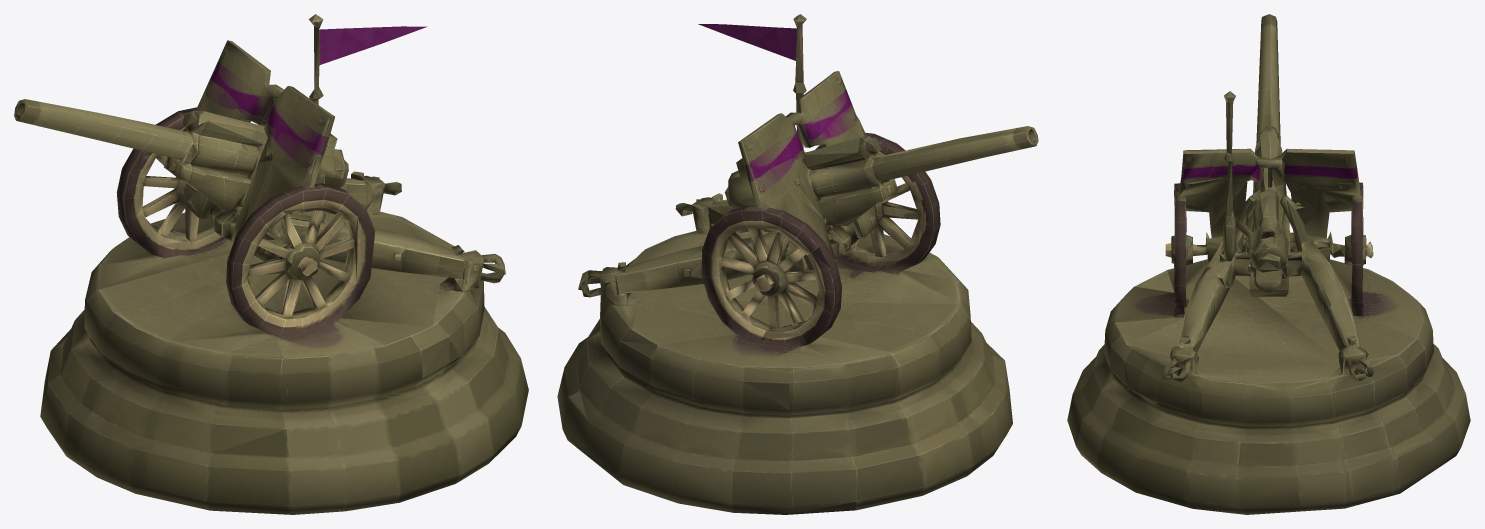
File: anzac_bishop.glb
3 views of the same model, side by side, from view 1: azimuth 30°, elevation 25°; view 2: azimuth 150°, elevation 25°; view 3: azimuth 270°, elevation 25° (orthographic). The views are drawn at different scales.
Bounding box in the file's own units: 2 × 1.65 × 1.76.
Materials: 1 (1 with a texture image).
